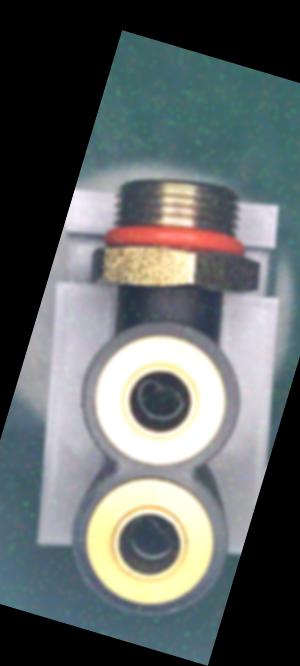off-centered: (125, 368, 196, 433), (119, 509, 184, 574)
white mark: (158, 281, 176, 300)
